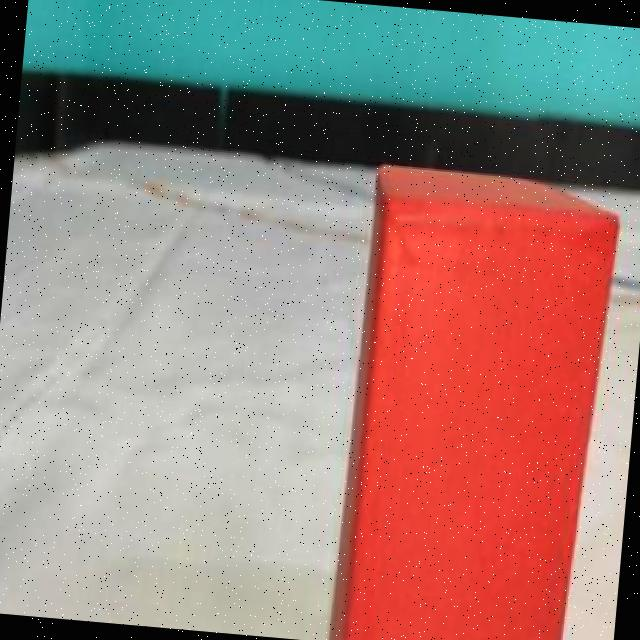redbox: (340, 165, 599, 640)
